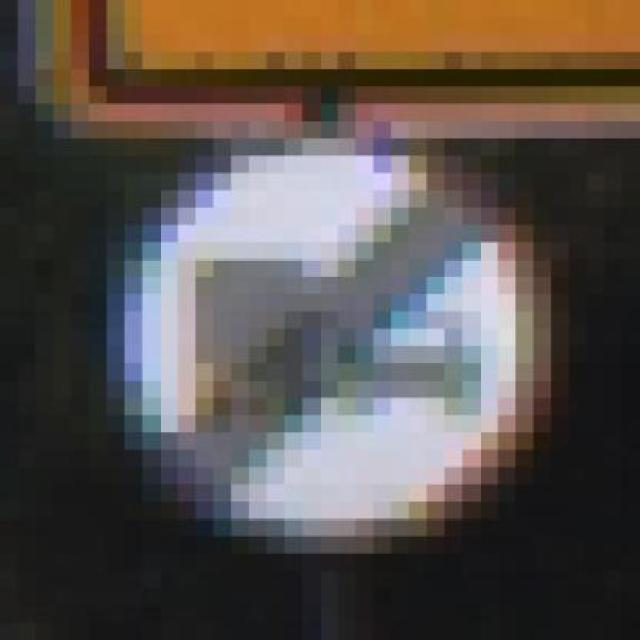Overtaking by trucks is prohibited: (70, 138, 604, 571)
